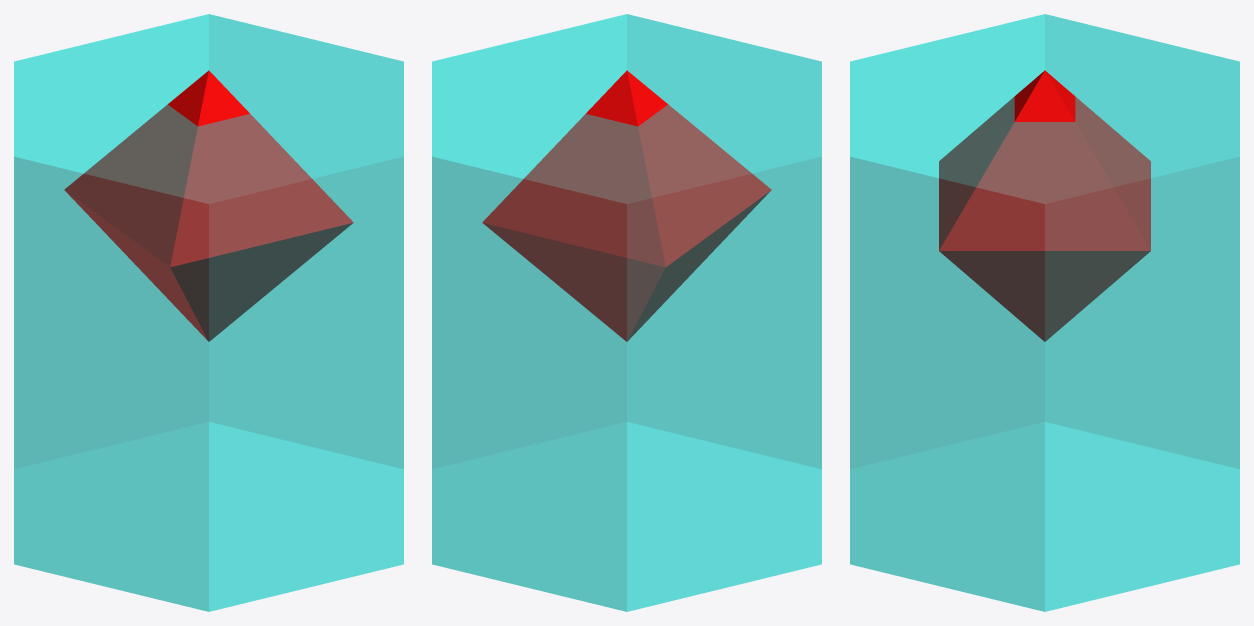
File: hexagono-transparente.glb
3 views of the same model, side by side, from view 1: azimuth 30°, elevation 25°; view 2: azimuth 150°, elevation 25°; view 3: azimuth 270°, elevation 25° (orthographic).
Parts seen in each view (by area): view 1: Hexagono, Hedra001; view 2: Hexagono, Hedra001; view 3: Hexagono, Hedra001.
Part boxes in pixels (x1,y1,x2,y2): Hexagono: [14, 14, 403, 611]; Hedra001: [64, 70, 353, 341]; Hexagono: [432, 14, 821, 611]; Hedra001: [482, 70, 771, 341]; Hexagono: [850, 14, 1239, 611]; Hedra001: [939, 70, 1150, 341].
Size of the model in its own units: 0.762 by 0.8345 by 0.6599.
